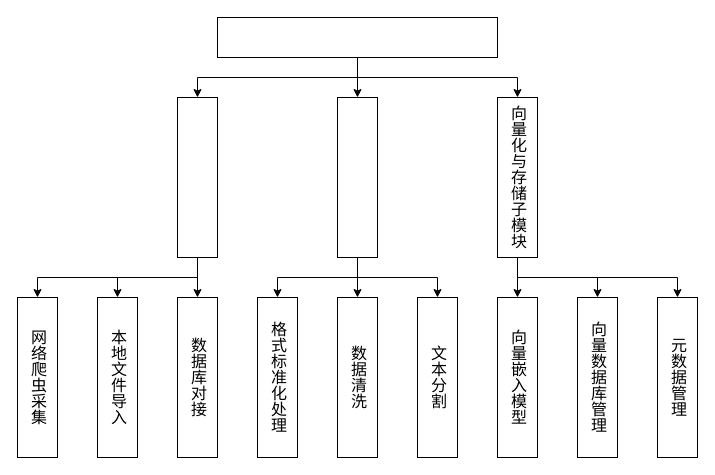
Some shapes in this 715 by 475 pixel diagram are drawn without their labels. Here are the shapes that lost their labels. From the top down, the centre of each, then its label:
(x=357, y=37): 私域军事知识库构建
(x=197, y=177): 数据采集模块
(x=357, y=177): 数据预处理模块
